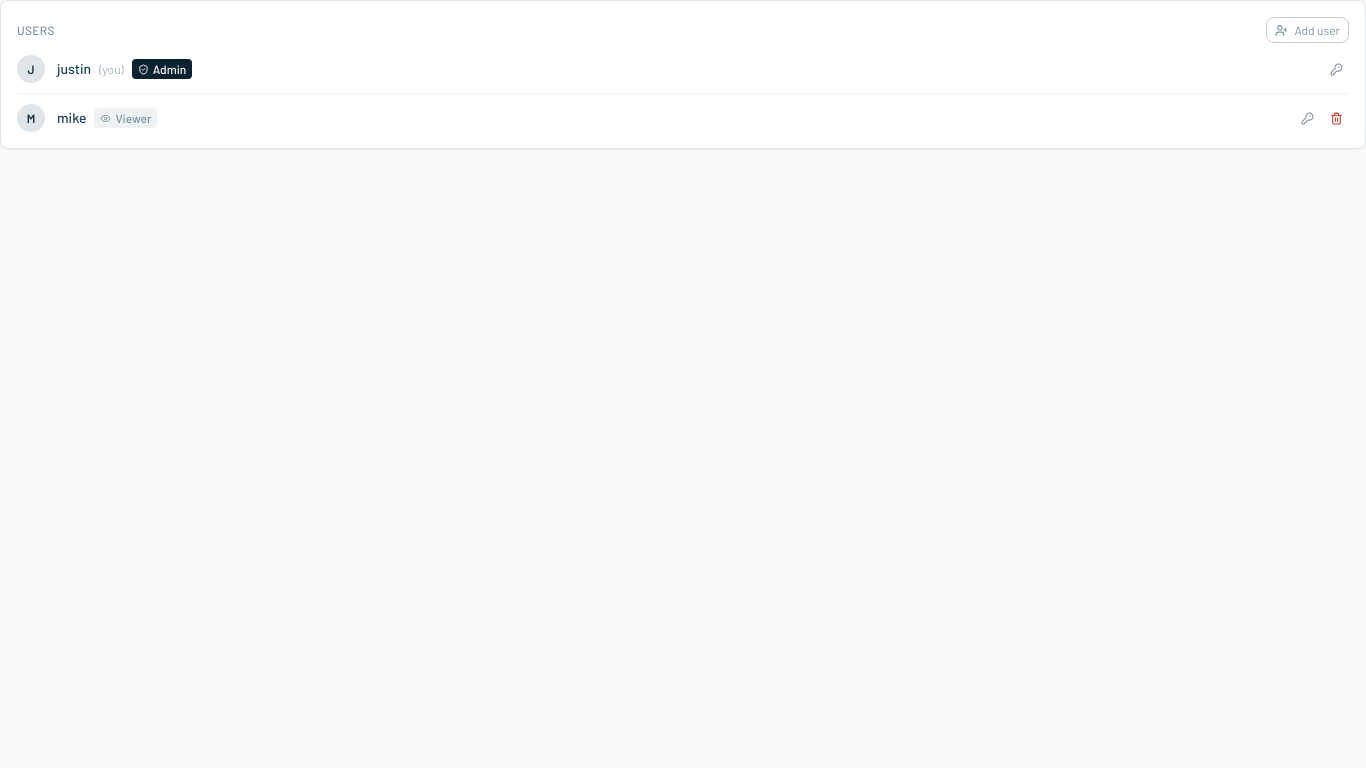
UsersSection › adding a user › requires a password of at least 8 characters
Click the button "Add user".
click(1308, 30)  # box [1266,17,1349,43]
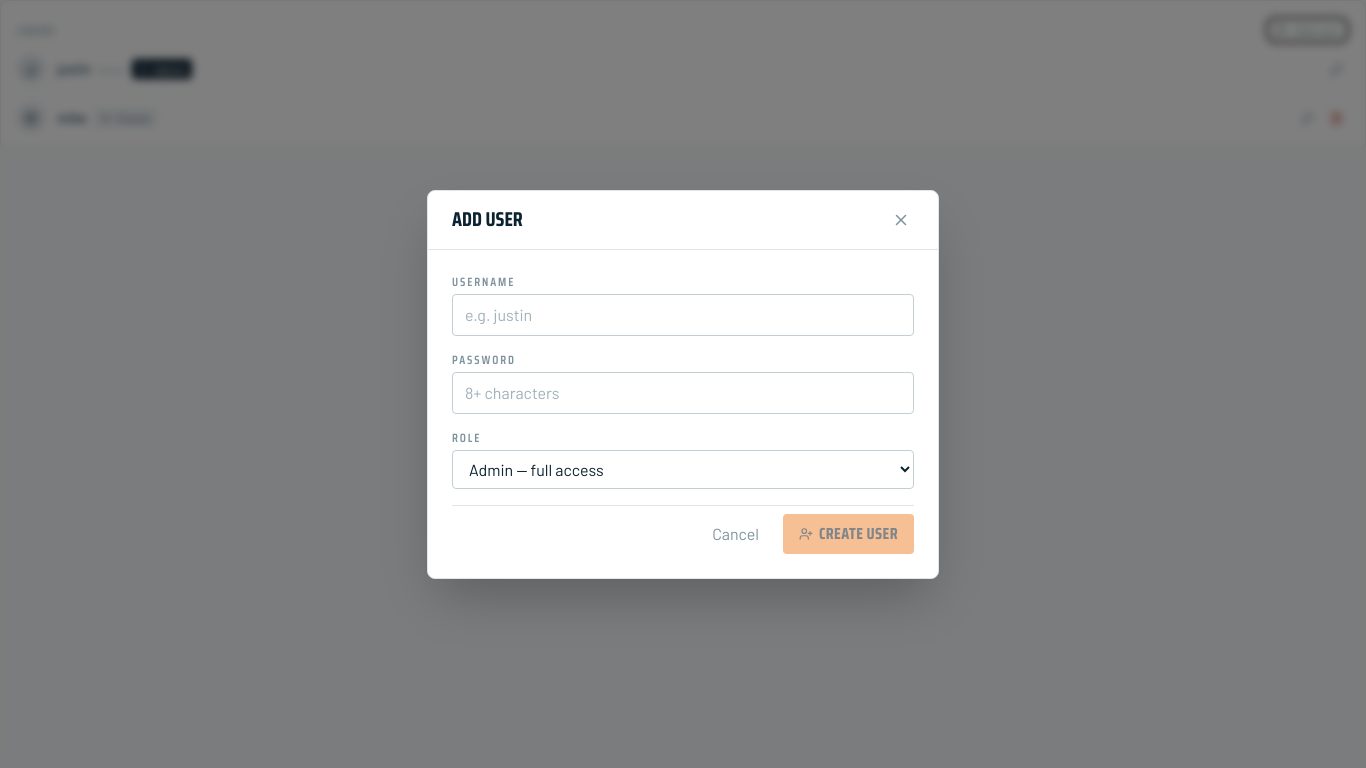
Type "newbie" into the field with placeholder "e.g. justin".
click(683, 314); type("newbie")  # box [452,294,914,336]
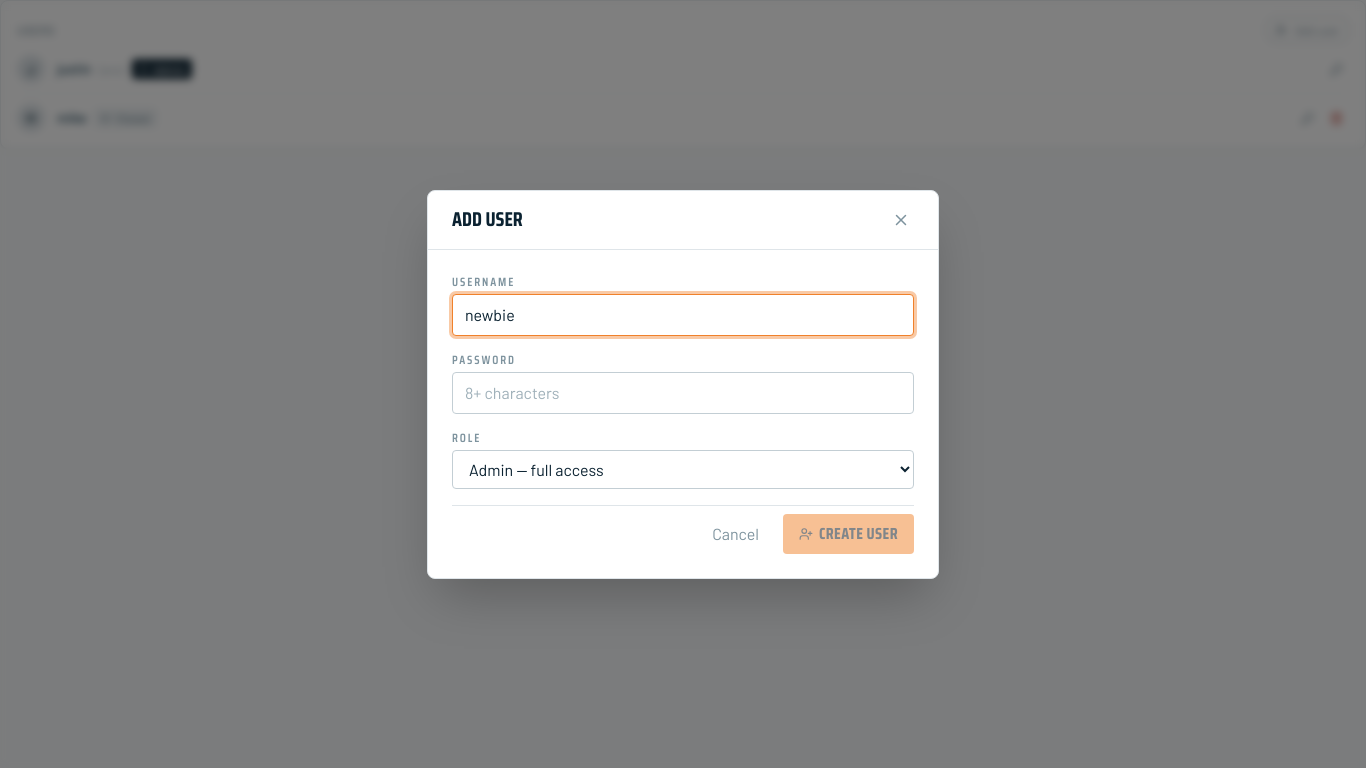
Type "short" into the password field with placeholder "8+ characters".
click(683, 392); type("short")  # box [452,372,914,414]
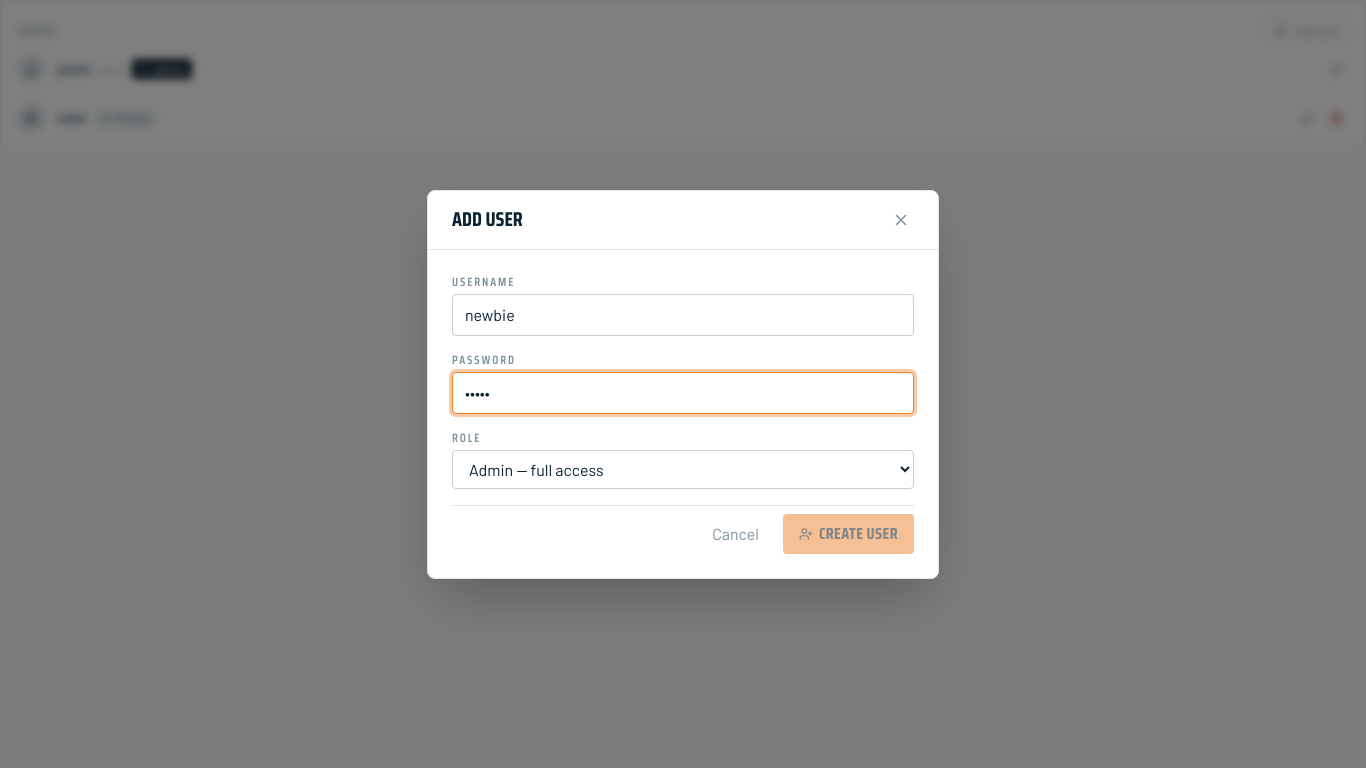
Result: the button "Create user" is disabled at [783,514,914,554]
Type "enough" into the password field with placeholder "8+ characters".
click(683, 392); type("enough")  # box [452,372,914,414]
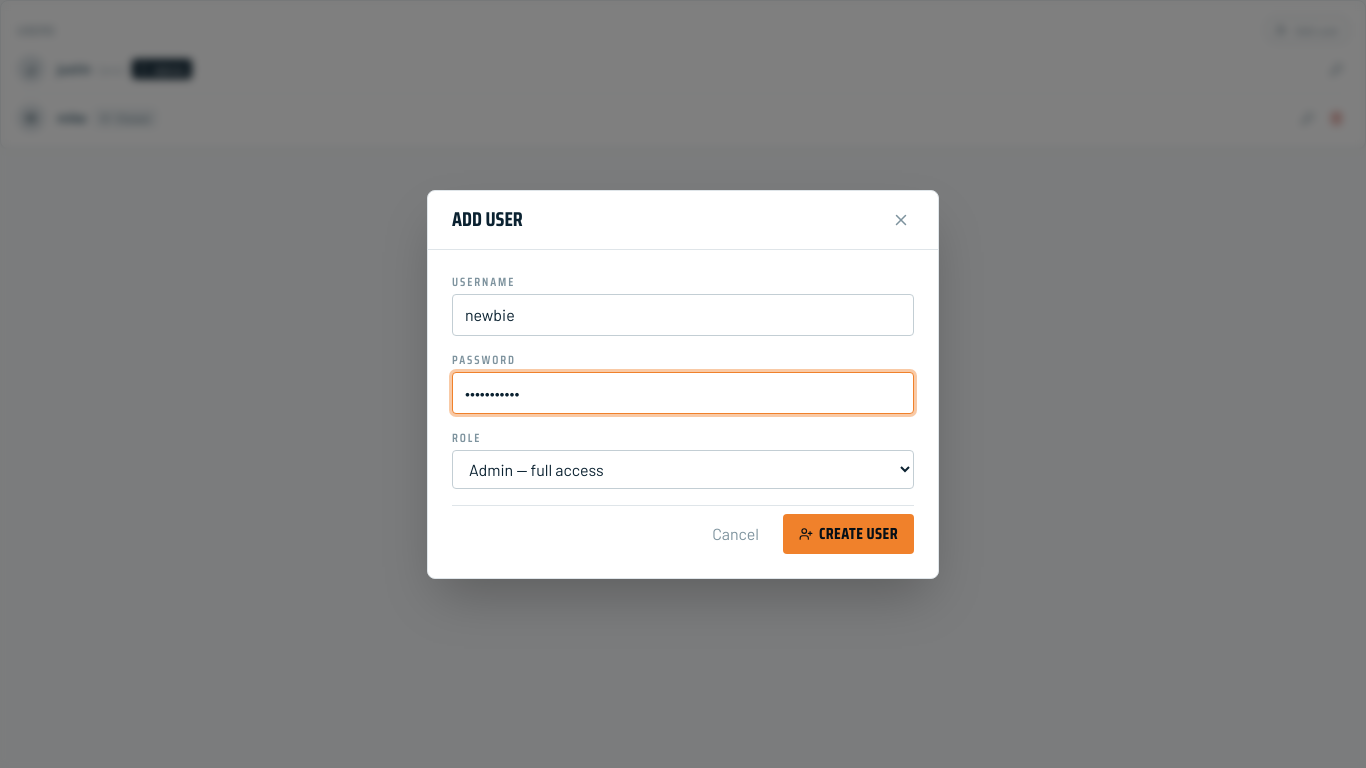
Result: the button "Create user" is enabled at [783,514,914,554]
